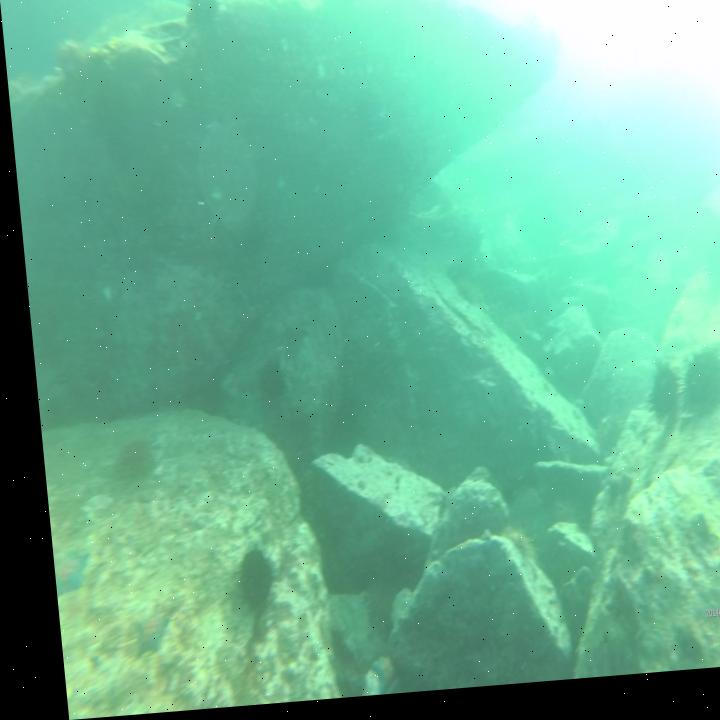echinus: (671, 356, 720, 437), (223, 548, 265, 618), (104, 430, 150, 490), (633, 368, 674, 434), (488, 528, 522, 581), (184, 0, 222, 40), (245, 366, 277, 411)
starfish: (122, 609, 161, 662), (42, 550, 82, 599), (693, 530, 720, 601), (359, 656, 388, 700)
